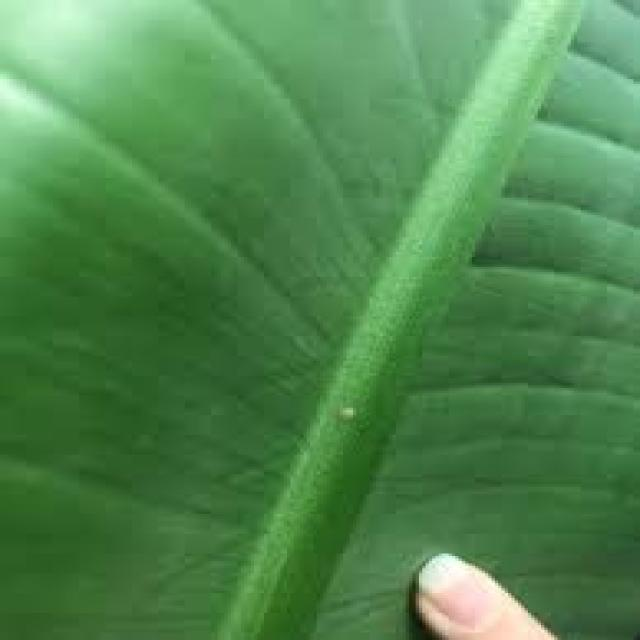scale_insect: (326, 395, 363, 425)
